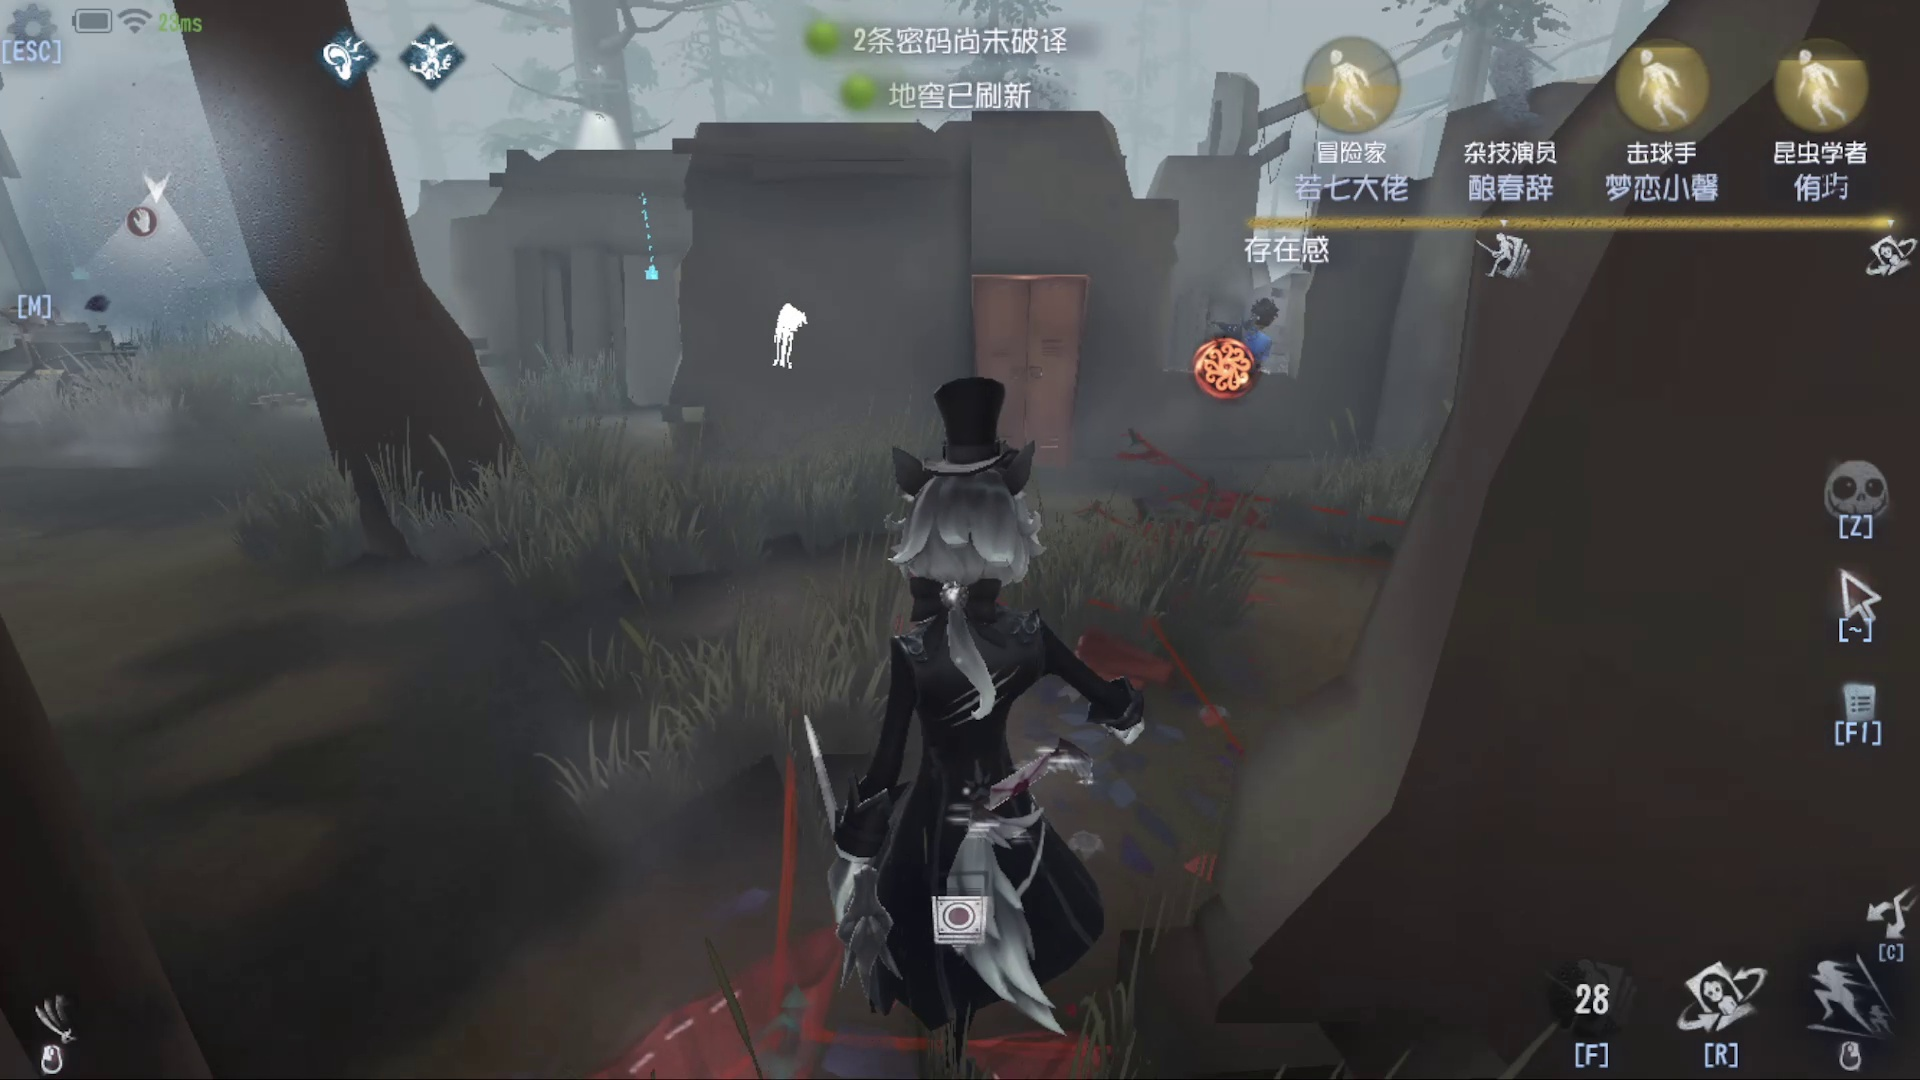密码机: (622, 179, 688, 324)
求生者: (1215, 274, 1284, 357)
